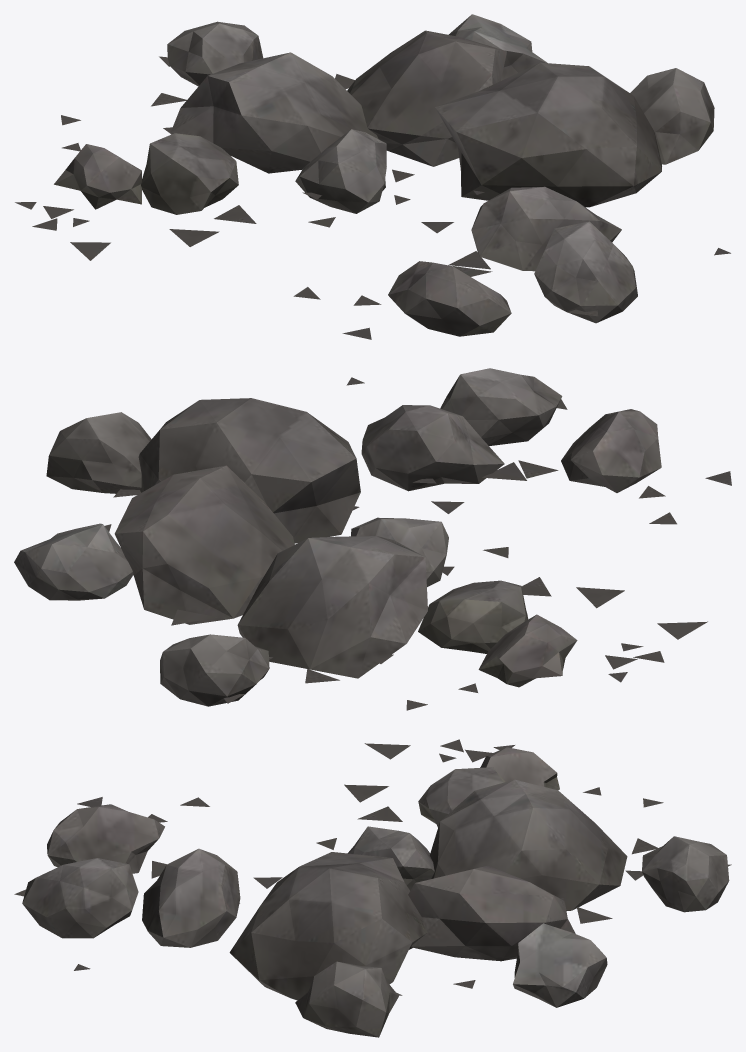
The model's file is calcite.glb.
3 views of the same model, one above another, from view 1: azimuth 30°, elevation 25°; view 2: azimuth 150°, elevation 25°; view 3: azimuth 270°, elevation 25° (orthographic). The views are drawn at different scales.
Visible parts, largest first — view 1: calcite; view 2: calcite; view 3: calcite.
Part boxes in pixels (bbox=[...]): calcite: bbox=[15, 14, 730, 339]; calcite: bbox=[14, 368, 731, 710]; calcite: bbox=[14, 739, 731, 1037].
Bounding box in the file's own units: 1.65 × 0.2578 × 1.71.
Materials: 1 (1 with a texture image).
